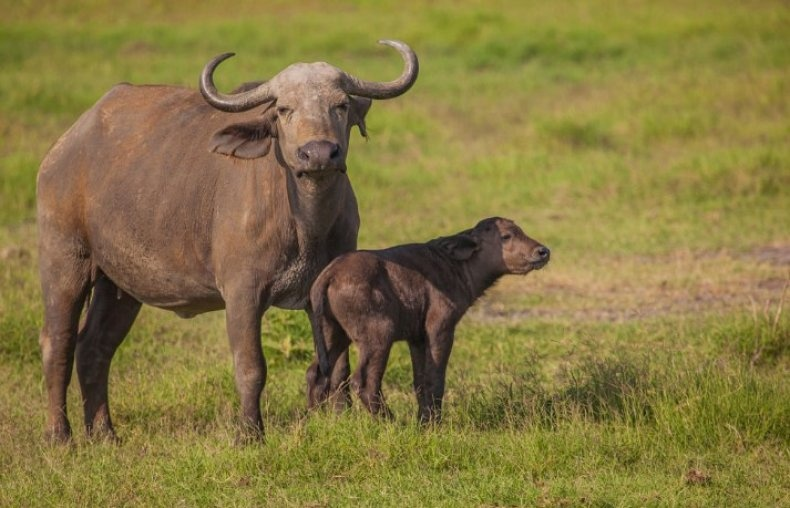buffalo: (31, 36, 421, 446), (306, 216, 552, 427)
